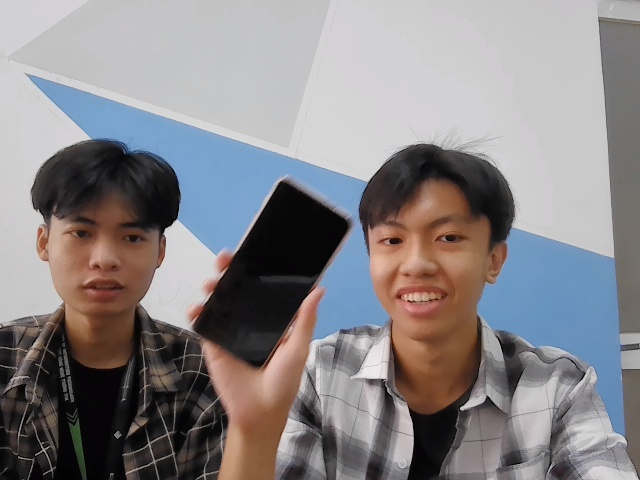human: (359, 145, 520, 346), (30, 138, 182, 315)
phone: (192, 178, 356, 374)
